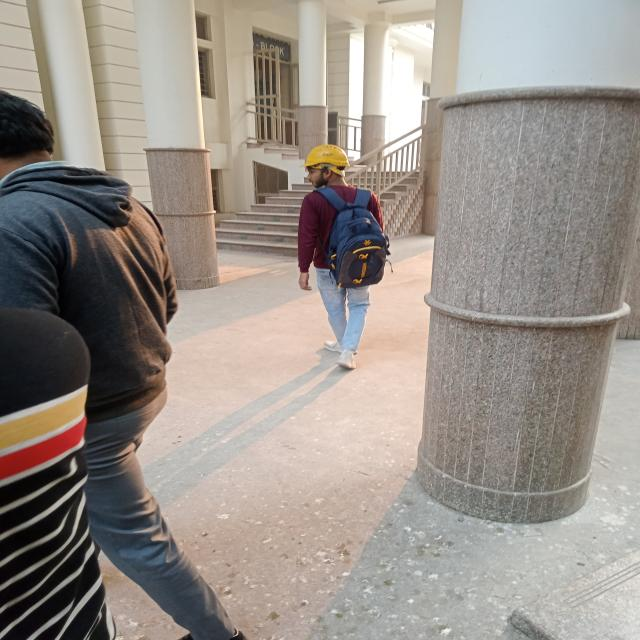no jacket: (291, 139, 385, 376)
